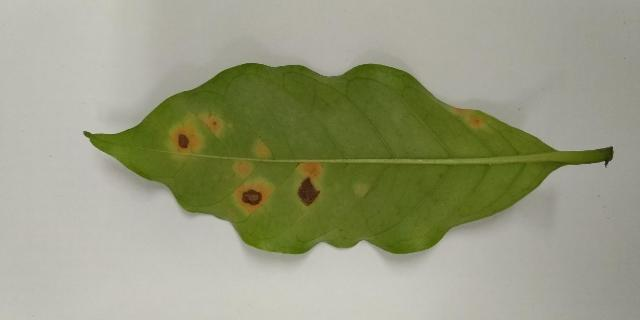miner: (170, 112, 225, 162), (230, 158, 275, 215), (295, 158, 326, 208), (447, 106, 487, 130), (255, 140, 270, 161), (355, 184, 369, 196)
